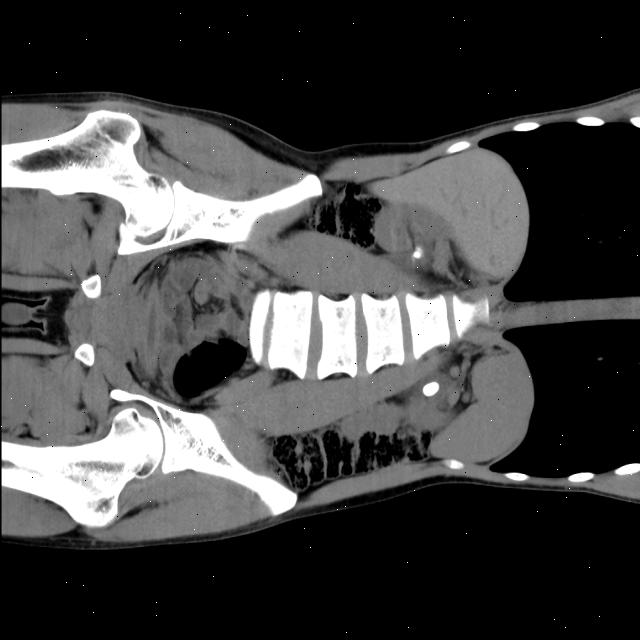kidneystone: (421, 382, 439, 397), (414, 248, 421, 256)
